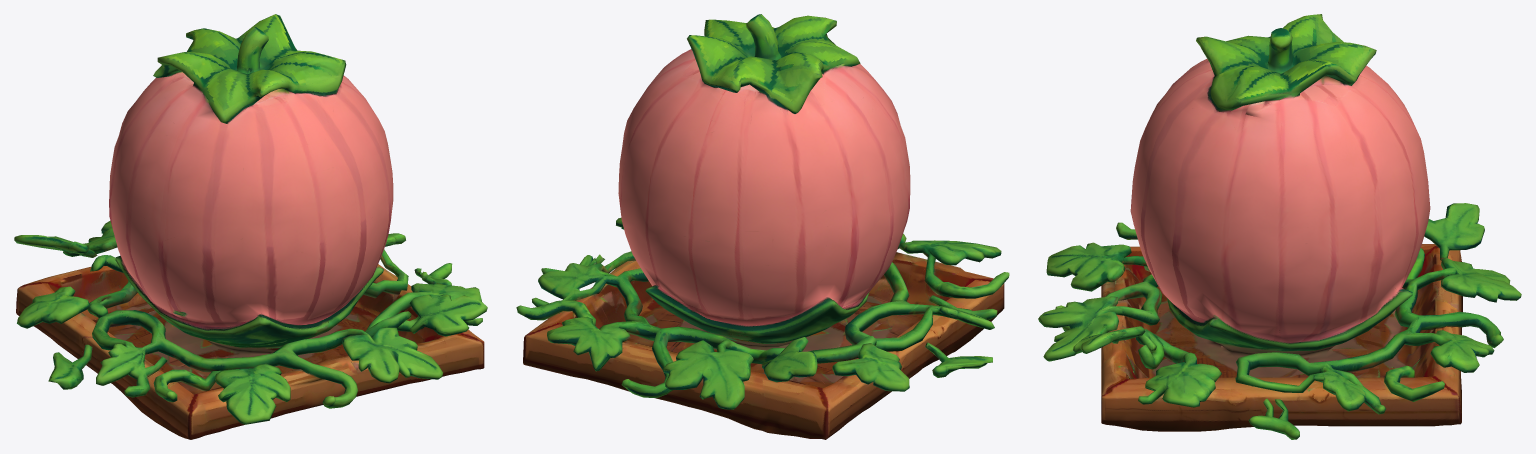
Rendered from pumpkin_pink.glb.
The picture shows the model from 3 angles, left to right: view 1: azimuth 30°, elevation 25°; view 2: azimuth 150°, elevation 25°; view 3: azimuth 270°, elevation 25°; orthographic projection. The views are drawn at different scales.
Size of the model in its own units: 1.88 by 1.37 by 1.8.
1 material, 1 textured.
